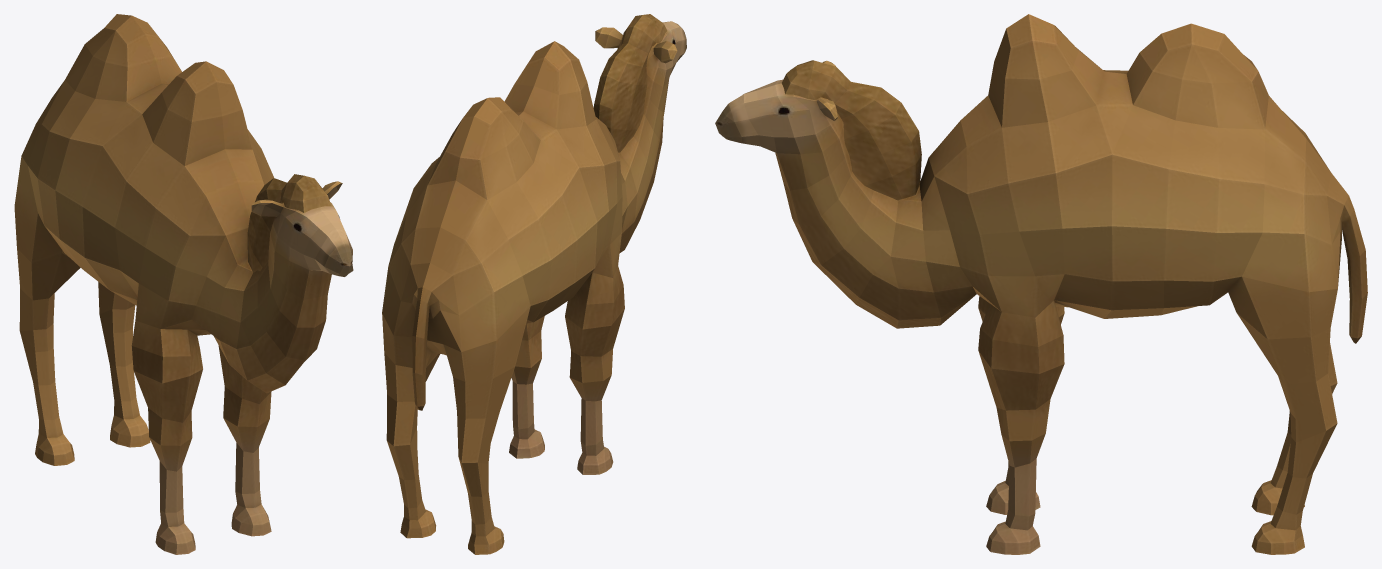
The model's file is camello.glb.
3 renders of one model, left to right at view 1: azimuth 30°, elevation 25°; view 2: azimuth 150°, elevation 25°; view 3: azimuth 270°, elevation 25°, orthographic. The views are drawn at different scales.
Parts seen in each view (by area): view 1: BactrianCamel_Mesh; view 2: BactrianCamel_Mesh; view 3: BactrianCamel_Mesh.
Boxes of the visible parts, x1,y1,x2,y2 form: BactrianCamel_Mesh: [14, 14, 353, 554]; BactrianCamel_Mesh: [382, 14, 686, 554]; BactrianCamel_Mesh: [715, 14, 1367, 554].
Bounding box in the file's own units: 3.83 × 9.73 × 11.22.
1 material, 1 textured.
